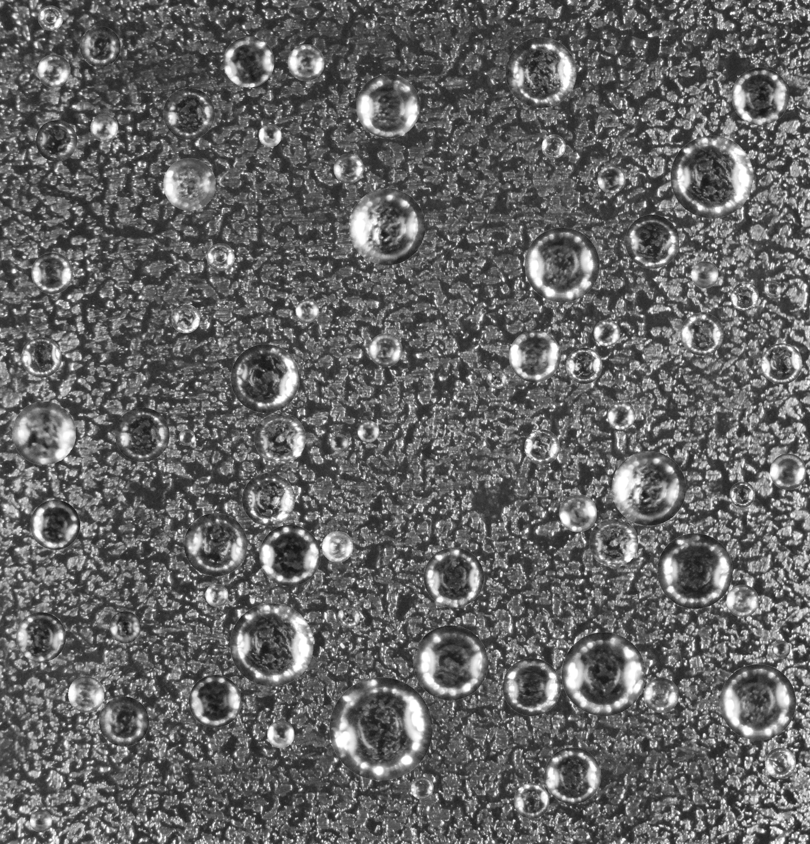Bubble: (329, 677, 432, 780), (561, 632, 645, 716), (670, 135, 753, 218), (230, 603, 313, 686), (348, 188, 425, 265), (720, 664, 796, 740), (657, 533, 732, 608), (413, 625, 488, 700), (524, 227, 599, 302), (611, 451, 686, 525), (505, 37, 576, 107), (230, 344, 299, 412), (356, 74, 420, 138), (184, 513, 247, 576), (12, 401, 75, 464), (259, 525, 320, 586), (423, 547, 483, 607), (731, 67, 789, 125), (502, 658, 560, 716), (544, 747, 601, 804), (625, 214, 679, 268), (115, 407, 169, 461), (188, 675, 241, 727), (242, 473, 294, 525), (163, 158, 215, 210), (509, 330, 560, 382), (163, 87, 214, 139), (254, 412, 305, 464), (223, 36, 274, 87), (98, 696, 148, 746), (30, 499, 80, 549), (16, 612, 65, 662), (589, 518, 638, 567), (680, 312, 723, 355), (35, 120, 77, 161), (31, 252, 72, 293), (761, 343, 802, 384), (79, 26, 120, 66), (21, 337, 61, 377), (559, 494, 596, 532), (287, 44, 324, 80), (566, 347, 602, 383), (770, 453, 806, 489), (68, 676, 104, 712), (513, 783, 549, 818), (643, 677, 678, 712), (524, 429, 559, 464), (369, 333, 402, 366), (37, 54, 70, 87), (726, 584, 758, 617), (109, 611, 141, 643), (765, 747, 796, 778), (322, 531, 353, 562), (333, 153, 363, 183), (171, 304, 200, 333), (90, 113, 118, 141), (597, 165, 625, 193), (206, 243, 234, 271), (730, 282, 758, 310), (607, 402, 635, 429), (267, 720, 294, 748), (691, 261, 718, 288), (593, 319, 620, 346), (729, 481, 755, 507), (38, 5, 63, 30), (541, 134, 565, 158), (295, 299, 319, 322), (337, 605, 360, 628), (410, 776, 433, 799), (258, 123, 281, 146), (29, 810, 52, 832), (205, 584, 228, 606), (357, 420, 379, 442), (486, 368, 506, 388), (330, 434, 348, 452), (764, 280, 781, 297), (773, 640, 790, 657), (178, 429, 194, 445), (702, 400, 717, 414), (365, 19, 375, 29)
